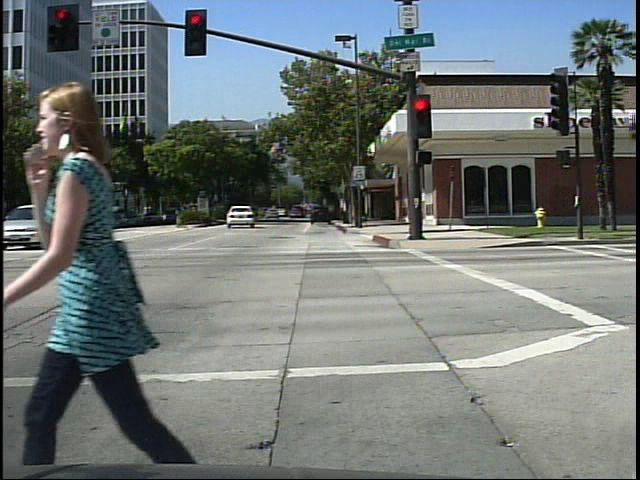person: (28, 64, 213, 467)
